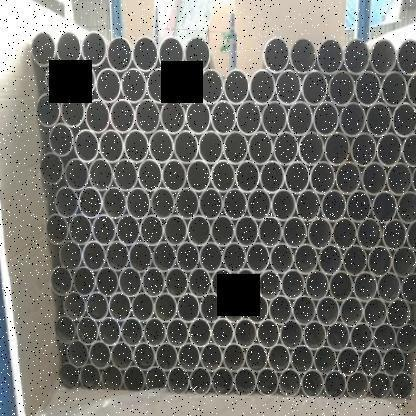pipe: (288, 36, 318, 74), (380, 69, 408, 108), (342, 37, 370, 75), (369, 37, 397, 75), (328, 69, 356, 107), (274, 68, 302, 106), (301, 68, 329, 106), (316, 37, 344, 74), (338, 101, 366, 138), (312, 100, 340, 137), (354, 70, 382, 107), (286, 100, 314, 137), (81, 30, 108, 68), (95, 66, 122, 104), (272, 130, 300, 166), (30, 30, 57, 67), (365, 101, 392, 138), (132, 34, 158, 72), (46, 60, 72, 98), (146, 66, 172, 104), (172, 66, 198, 104), (70, 61, 96, 99), (62, 156, 90, 191), (323, 131, 351, 166), (263, 36, 290, 72), (48, 122, 75, 158), (235, 100, 262, 136), (361, 160, 388, 196), (223, 68, 250, 104), (249, 68, 276, 104), (375, 132, 402, 168), (106, 35, 132, 72), (158, 36, 184, 73), (184, 36, 210, 73), (198, 67, 224, 104), (294, 188, 322, 222), (334, 160, 362, 194), (306, 216, 334, 250), (84, 98, 111, 133), (386, 161, 413, 196), (298, 131, 325, 166), (60, 92, 86, 128), (160, 98, 186, 134), (261, 100, 287, 136), (56, 30, 82, 66), (73, 127, 99, 163), (345, 190, 372, 224), (309, 160, 336, 194), (53, 184, 80, 218), (186, 98, 210, 136), (122, 66, 146, 104), (38, 151, 64, 186), (148, 129, 174, 164), (36, 92, 62, 127), (211, 100, 236, 136), (135, 98, 160, 134), (248, 130, 273, 166), (391, 101, 416, 137), (320, 190, 347, 223), (356, 217, 383, 250), (372, 190, 398, 224), (350, 132, 376, 166), (332, 216, 358, 250), (366, 244, 392, 278), (150, 186, 176, 220), (259, 160, 285, 194), (284, 160, 310, 194), (136, 158, 162, 192), (382, 218, 408, 252), (124, 129, 149, 164), (110, 98, 135, 133), (88, 157, 113, 192), (198, 130, 223, 165), (174, 129, 198, 165), (270, 188, 296, 221), (174, 187, 200, 220), (246, 188, 272, 221), (282, 216, 308, 249), (258, 215, 284, 248), (186, 158, 211, 192), (126, 186, 151, 220), (210, 214, 235, 248), (113, 158, 138, 192), (210, 158, 235, 192), (235, 160, 260, 194), (68, 212, 93, 246), (100, 128, 124, 163), (224, 130, 248, 165), (268, 242, 294, 274), (328, 270, 354, 302), (198, 187, 223, 220), (234, 215, 259, 248), (102, 186, 127, 219), (78, 186, 103, 219), (163, 214, 188, 247), (391, 245, 416, 278), (162, 158, 186, 192), (342, 245, 368, 276), (352, 271, 378, 302), (304, 270, 330, 301), (222, 188, 247, 220), (187, 266, 212, 298), (257, 268, 282, 300), (281, 268, 306, 300), (291, 294, 316, 326), (187, 214, 211, 247), (140, 214, 164, 247), (116, 213, 140, 246), (92, 213, 116, 246), (318, 244, 344, 274), (314, 296, 340, 326), (362, 298, 388, 328), (44, 213, 69, 244), (58, 240, 83, 271), (376, 272, 401, 303), (106, 240, 130, 272), (82, 240, 106, 272), (396, 36, 416, 74), (312, 346, 338, 375), (198, 242, 223, 272), (164, 267, 189, 297), (349, 322, 374, 352), (210, 268, 235, 298), (268, 295, 293, 325), (339, 296, 364, 326), (233, 318, 258, 348), (302, 320, 327, 350), (199, 292, 224, 322), (233, 366, 258, 396), (279, 319, 304, 349), (246, 242, 270, 273), (294, 243, 318, 274), (152, 241, 176, 272), (176, 241, 200, 272), (359, 346, 383, 376), (336, 346, 360, 376), (234, 268, 258, 298), (118, 266, 142, 296), (142, 267, 166, 297), (381, 347, 405, 377), (176, 292, 200, 322), (300, 368, 324, 398), (372, 322, 396, 352), (222, 292, 246, 322), (188, 318, 212, 348), (166, 318, 190, 348), (154, 292, 178, 322), (108, 292, 132, 322), (326, 322, 350, 352), (386, 298, 410, 328), (110, 340, 134, 370), (346, 370, 370, 400), (142, 317, 166, 347), (98, 316, 122, 346), (62, 291, 86, 321), (120, 316, 144, 346), (72, 266, 96, 296), (86, 291, 110, 321), (96, 266, 120, 296), (368, 370, 392, 400), (290, 344, 314, 374), (177, 342, 201, 372), (278, 368, 302, 398), (222, 342, 246, 372), (267, 343, 291, 373), (244, 342, 268, 372), (131, 292, 155, 322), (256, 318, 280, 348), (66, 338, 90, 368), (223, 242, 246, 273), (129, 241, 152, 272), (396, 190, 416, 225), (323, 370, 347, 399), (76, 316, 100, 345), (189, 366, 213, 395), (132, 341, 156, 370), (166, 366, 190, 395), (211, 318, 234, 348), (155, 342, 178, 372), (200, 342, 223, 372), (88, 341, 112, 369), (78, 362, 102, 390), (246, 293, 268, 323), (54, 314, 76, 344), (212, 366, 234, 396), (391, 371, 413, 401), (50, 266, 72, 296), (256, 367, 278, 396), (395, 322, 416, 352), (123, 364, 145, 392), (58, 362, 80, 390), (102, 364, 124, 391), (146, 365, 168, 392), (400, 272, 416, 304), (401, 132, 416, 166), (406, 70, 416, 108), (406, 219, 416, 252), (410, 161, 416, 196)
